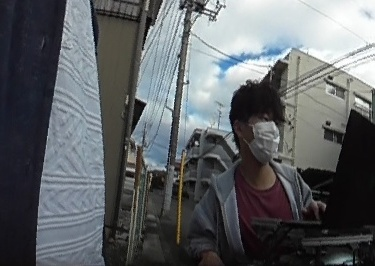person: (210, 79, 311, 266)
